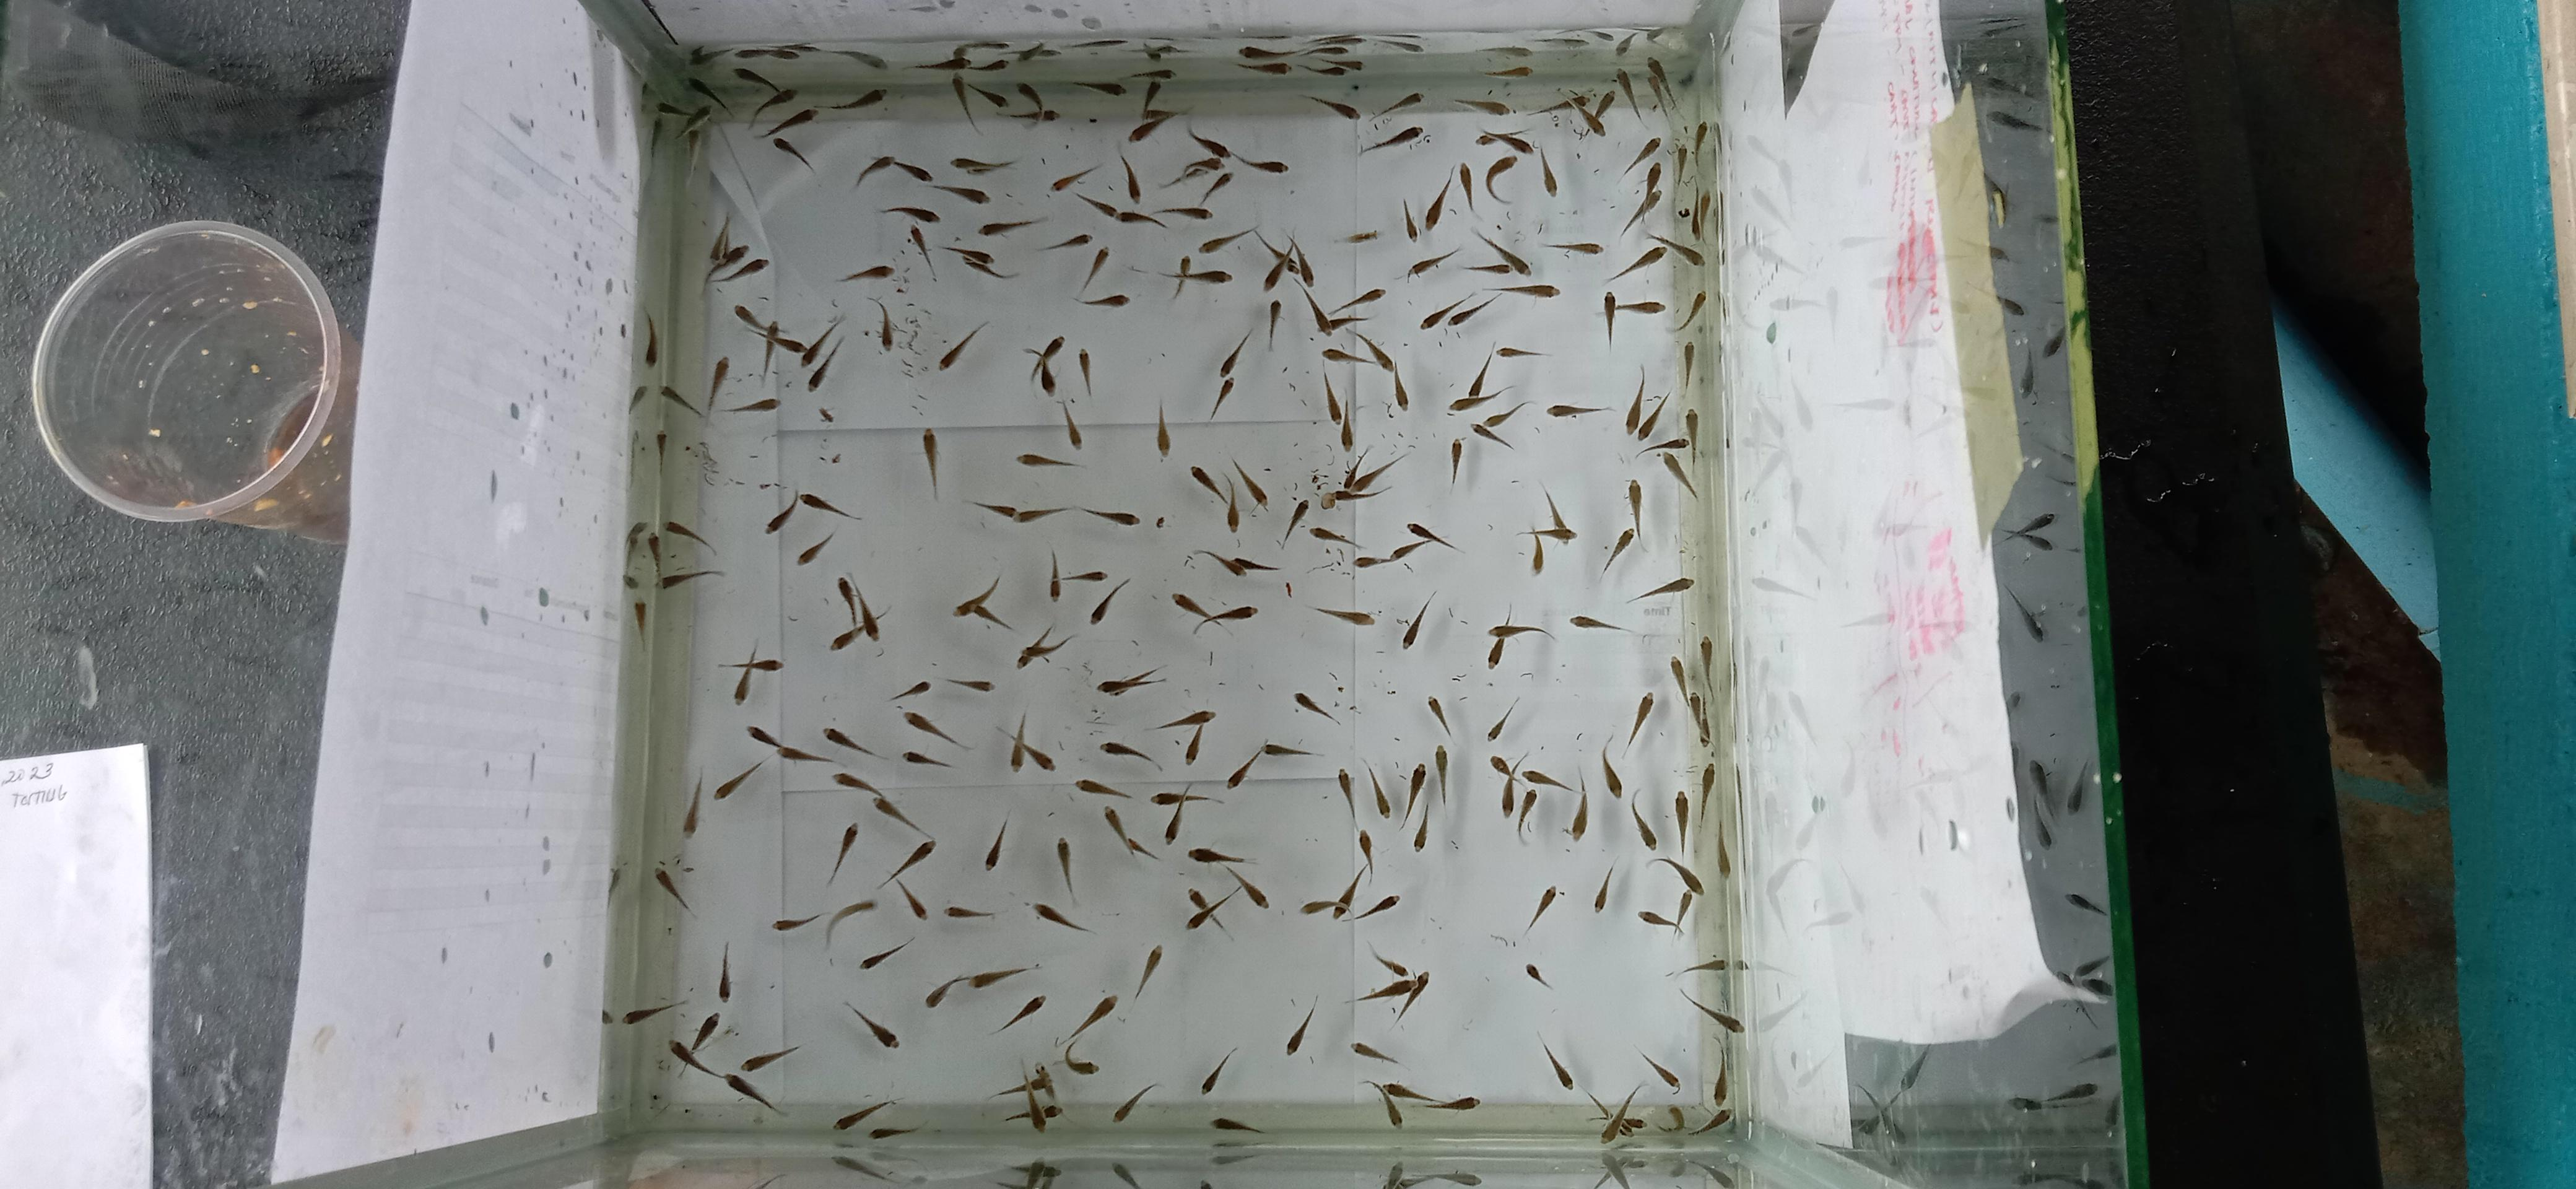fingerling: (667, 1038, 784, 1117), (912, 48, 1009, 138), (1488, 749, 1577, 844), (757, 87, 885, 141), (831, 770, 930, 839), (1046, 547, 1132, 626), (1349, 944, 1429, 1026), (1288, 274, 1385, 337), (1539, 1038, 1612, 1118), (1475, 128, 1559, 197), (1447, 282, 1559, 333), (1318, 447, 1408, 509), (1367, 1079, 1479, 1128), (1235, 36, 1364, 79), (770, 897, 877, 948), (1518, 484, 1577, 575), (964, 499, 1140, 529), (733, 304, 805, 374), (923, 964, 1038, 1008), (994, 1059, 1061, 1133), (1607, 232, 1704, 282), (828, 575, 890, 652), (1521, 767, 1587, 839), (1188, 128, 1288, 174), (1354, 330, 1410, 409), (1226, 741, 1316, 788), (894, 161, 991, 205), (1285, 580, 1373, 627), (1360, 90, 1426, 154), (660, 356, 728, 419), (708, 356, 780, 414), (1600, 480, 1643, 575), (1150, 787, 1221, 844), (1157, 169, 1234, 222), (716, 642, 780, 705), (1630, 788, 1690, 854), (1209, 327, 1252, 419), (1635, 437, 1697, 499), (1170, 591, 1257, 636), (1253, 230, 1314, 292), (1669, 657, 1710, 747), (994, 713, 1055, 774), (701, 215, 749, 292), (1299, 867, 1368, 920), (1189, 463, 1240, 534), (1446, 353, 1505, 414), (1603, 291, 1664, 348), (1485, 619, 1556, 668), (1625, 365, 1669, 442), (1587, 1084, 1644, 1143), (1158, 256, 1230, 302), (1102, 805, 1160, 862), (953, 575, 1012, 631), (1157, 709, 1216, 765), (1125, 80, 1178, 143), (1076, 246, 1129, 309), (1074, 194, 1165, 230), (1048, 547, 1106, 601), (1620, 164, 1663, 236), (1470, 401, 1533, 450), (667, 1013, 720, 1071), (747, 726, 830, 762), (877, 839, 935, 890), (902, 709, 973, 751), (1188, 549, 1280, 580), (940, 245, 1019, 281), (1061, 995, 1117, 1046), (1388, 1081, 1479, 1112), (1679, 990, 1745, 1033), (1015, 624, 1076, 670), (1288, 273, 1332, 335), (1184, 887, 1237, 939), (1653, 1104, 1732, 1138), (667, 1036, 726, 1082), (936, 320, 989, 371), (823, 898, 876, 949), (854, 154, 931, 189), (1322, 371, 1355, 452), (1023, 335, 1066, 396), (723, 1072, 784, 1115), (800, 310, 846, 366), (1488, 754, 1529, 816), (1472, 230, 1529, 274), (912, 46, 1009, 72), (846, 1002, 899, 1049), (713, 757, 769, 801), (1321, 287, 1383, 327), (872, 795, 930, 838), (997, 1086, 1050, 1132), (1638, 893, 1694, 936), (1027, 1063, 1061, 1128), (1350, 972, 1423, 1003), (1648, 857, 1704, 897), (994, 992, 1046, 1033), (621, 521, 652, 590), (1607, 246, 1666, 282), (996, 1059, 1050, 1099), (698, 445, 746, 489), (808, 335, 846, 391), (825, 821, 858, 885), (831, 1099, 894, 1132), (823, 726, 885, 759), (1423, 166, 1454, 232), (948, 74, 981, 136), (836, 575, 869, 637), (1096, 667, 1165, 696), (1224, 864, 1268, 910), (733, 66, 792, 100), (1539, 484, 1575, 540), (1028, 902, 1092, 933), (1447, 296, 1500, 333), (1401, 590, 1436, 647), (761, 107, 818, 141), (1352, 542, 1423, 570), (1525, 884, 1561, 938), (1089, 576, 1130, 624), (1099, 741, 1161, 772), (1160, 158, 1222, 189), (1360, 125, 1426, 154), (1625, 576, 1694, 604), (621, 997, 690, 1025), (654, 864, 692, 915), (1230, 458, 1268, 509), (1393, 972, 1429, 1025), (1398, 248, 1459, 279), (1285, 997, 1318, 1054), (859, 936, 913, 971), (1321, 481, 1391, 507), (1646, 57, 1677, 117), (1217, 328, 1253, 379), (623, 576, 651, 642), (761, 330, 802, 374), (1111, 1084, 1157, 1123), (664, 521, 716, 555), (969, 964, 1038, 990), (1575, 90, 1613, 138), (800, 491, 861, 521), (1539, 1040, 1574, 1090), (1406, 522, 1462, 553), (1623, 365, 1648, 435), (1293, 690, 1341, 726), (1600, 527, 1636, 575), (1367, 1081, 1403, 1128), (1625, 691, 1654, 749), (907, 225, 936, 282), (1485, 154, 1520, 204), (713, 256, 767, 287), (1648, 233, 1702, 264), (1638, 1051, 1681, 1090), (1659, 455, 1697, 499), (1336, 865, 1368, 916), (1199, 1048, 1235, 1094), (751, 90, 797, 126), (1134, 944, 1163, 1000), (741, 1044, 800, 1072), (1050, 163, 1102, 194), (1401, 764, 1428, 826), (1621, 136, 1661, 177), (1354, 332, 1393, 373), (1199, 227, 1257, 255), (1671, 289, 1707, 333), (1419, 294, 1464, 330), (982, 811, 1009, 872), (1630, 793, 1658, 849), (1365, 760, 1391, 819), (1613, 71, 1643, 123), (795, 529, 836, 567), (1368, 943, 1410, 980), (1280, 498, 1311, 547), (1078, 246, 1109, 296), (1181, 716, 1212, 765), (1127, 110, 1173, 143), (659, 386, 705, 419), (1166, 256, 1199, 302), (1689, 189, 1718, 240), (1373, 90, 1421, 122), (1189, 465, 1226, 506), (1571, 614, 1640, 636), (1567, 772, 1589, 841), (1695, 762, 1718, 826), (1447, 386, 1503, 412), (1487, 696, 1520, 741), (1349, 893, 1398, 923), (1055, 836, 1076, 903), (680, 774, 703, 836), (1600, 737, 1623, 800), (920, 429, 940, 501), (1226, 749, 1262, 788), (1304, 95, 1359, 122), (1477, 130, 1534, 154), (772, 136, 813, 171), (853, 154, 894, 189), (657, 568, 723, 590), (1188, 128, 1230, 161), (923, 976, 966, 1008), (697, 1020, 741, 1051), (830, 87, 885, 112), (977, 217, 1046, 236), (1490, 749, 1536, 778), (764, 493, 797, 534), (1469, 419, 1511, 450), (1140, 77, 1171, 120), (718, 654, 780, 675), (1487, 621, 1554, 640), (1150, 788, 1222, 806), (951, 156, 1017, 176), (1710, 1040, 1730, 1105), (1074, 777, 1130, 800), (706, 356, 729, 412), (1635, 437, 1690, 460), (897, 879, 928, 920), (1157, 709, 1216, 731), (1081, 506, 1140, 527), (1671, 790, 1690, 854), (1299, 57, 1364, 77), (1117, 153, 1142, 204), (1334, 287, 1385, 312), (1687, 1109, 1732, 1136), (1336, 769, 1357, 826), (1350, 1041, 1400, 1066), (831, 770, 881, 795), (1188, 846, 1249, 865), (1012, 504, 1068, 526), (1516, 787, 1538, 842), (733, 304, 770, 335), (706, 215, 731, 263), (872, 299, 895, 350), (1314, 606, 1373, 626), (690, 1012, 720, 1051), (1288, 240, 1314, 284), (1023, 1089, 1050, 1133), (936, 184, 991, 205), (1523, 769, 1572, 792), (1201, 169, 1234, 204), (1625, 480, 1643, 542), (1426, 695, 1452, 737), (1184, 888, 1211, 931), (1262, 253, 1291, 291), (1546, 402, 1613, 419), (1234, 56, 1290, 76), (1171, 591, 1211, 619), (1027, 1063, 1055, 1102), (879, 205, 940, 223), (999, 108, 1060, 126), (1061, 399, 1083, 450), (1308, 526, 1359, 547), (1528, 95, 1579, 117), (1209, 378, 1235, 419), (1457, 161, 1477, 215), (1521, 524, 1575, 544), (1237, 41, 1291, 61), (1014, 41, 1060, 64), (969, 82, 1007, 110), (1699, 636, 1717, 693), (900, 751, 953, 770), (1322, 373, 1342, 425), (1076, 194, 1115, 220), (747, 726, 787, 752), (1017, 80, 1046, 115), (1255, 230, 1291, 258), (1042, 232, 1092, 251), (770, 913, 821, 933), (964, 499, 1015, 519), (1155, 397, 1171, 458), (1015, 452, 1076, 468), (641, 309, 657, 370), (1638, 910, 1681, 933), (1669, 657, 1690, 703), (697, 443, 720, 486), (1260, 741, 1314, 759), (1222, 478, 1240, 532), (1694, 693, 1712, 747), (1065, 1046, 1097, 1076), (1452, 99, 1511, 115), (1433, 746, 1449, 805), (1653, 1105, 1686, 1135), (892, 159, 931, 184), (1115, 209, 1165, 228), (841, 264, 894, 282), (1211, 1117, 1263, 1135), (1235, 156, 1288, 174), (830, 624, 866, 650), (757, 332, 779, 376), (723, 397, 780, 414), (1069, 79, 1127, 95), (1539, 149, 1559, 197), (974, 606, 1012, 631), (869, 1123, 925, 1140), (1157, 205, 1212, 222), (1462, 258, 1518, 274), (1674, 892, 1695, 934), (1594, 865, 1613, 911), (1002, 1107, 1042, 1130), (1165, 803, 1186, 844), (716, 941, 731, 1000), (1388, 540, 1426, 563), (941, 677, 994, 693), (1584, 1089, 1610, 1122), (1022, 744, 1055, 770), (890, 680, 930, 701), (1078, 292, 1129, 309), (1428, 1095, 1479, 1112), (1682, 407, 1699, 458), (1528, 529, 1546, 575), (1391, 365, 1410, 411), (1299, 900, 1345, 918), (1322, 348, 1368, 366), (1076, 348, 1092, 397), (945, 905, 994, 921), (624, 521, 649, 553), (1413, 801, 1429, 851), (734, 258, 767, 282), (631, 598, 649, 642), (1212, 604, 1257, 622), (1401, 199, 1419, 243), (1525, 962, 1552, 990), (1267, 299, 1281, 351), (1048, 549, 1063, 601), (1613, 31, 1643, 57), (1493, 345, 1551, 358), (733, 667, 752, 705), (1355, 829, 1373, 870), (1546, 241, 1602, 255), (1332, 230, 1382, 245), (1498, 777, 1516, 816), (1007, 736, 1027, 772), (1449, 438, 1464, 486), (1485, 66, 1533, 80), (1681, 340, 1695, 388), (1132, 67, 1175, 84), (1715, 836, 1732, 879), (628, 383, 651, 412), (646, 532, 662, 572), (1490, 755, 1518, 778), (1511, 284, 1559, 297), (1306, 558, 1344, 575), (1487, 637, 1503, 668), (1488, 933, 1516, 948), (757, 480, 787, 493), (815, 453, 843, 466), (621, 575, 642, 591), (816, 406, 835, 424)
